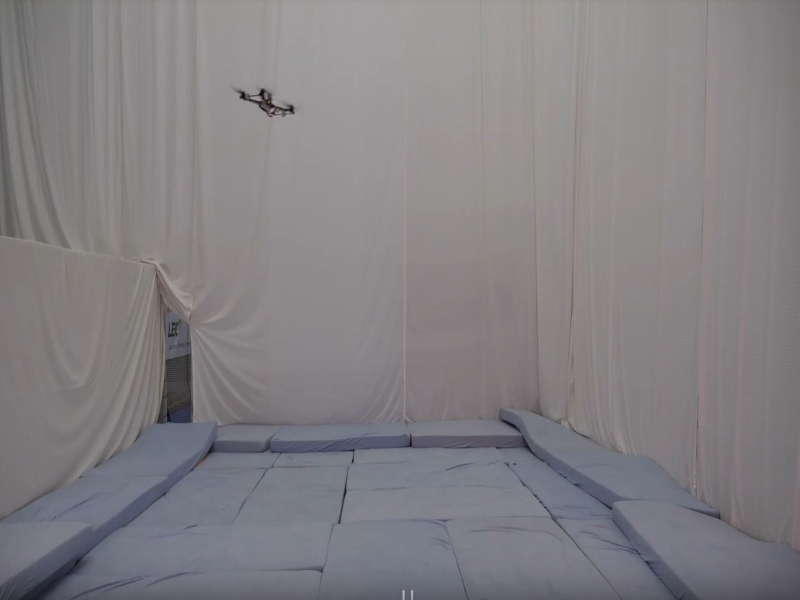drone: (229, 79, 298, 122)
